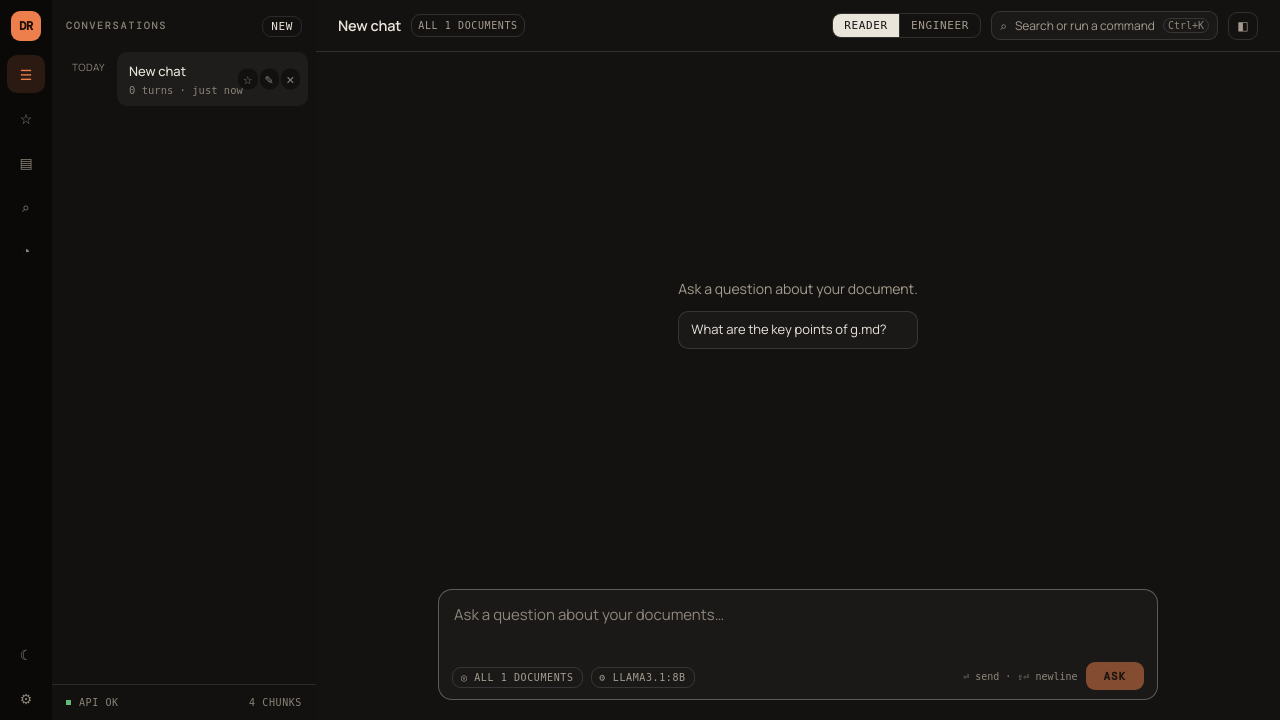
Scenario: App › a trace-row click opens the Trace tab and forces engineer mode
This screenshot has width=1280, height=720.
Check: the text "api ok" is shown, box x1=79 y1=695 x2=119 y2=710
Check: the radio button labelled "Reader" is checked, box x1=833 y1=14 x2=899 y2=37
Step 1. Click the button with test id "rail-traces" → (26, 250), box x1=7 y1=231 x2=45 y2=269
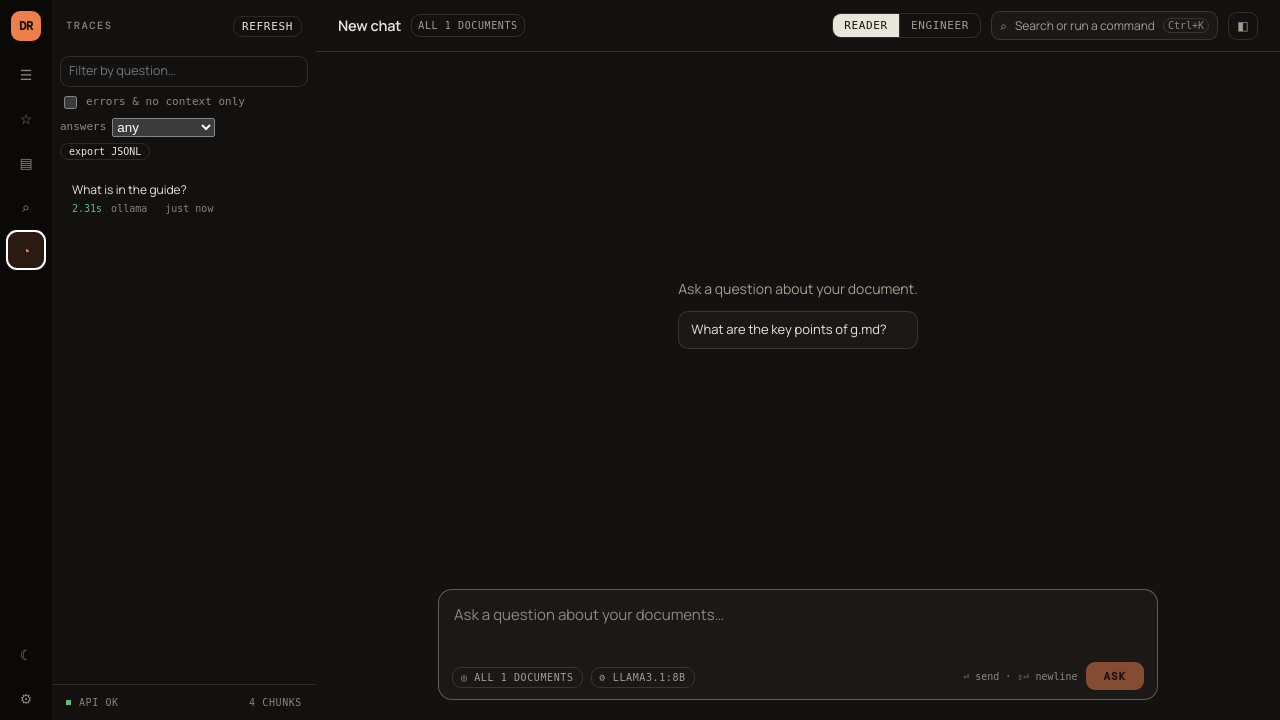
Step 2. Click the button with test id "traces-panel-row" → (184, 197), box x1=60 y1=171 x2=308 y2=224
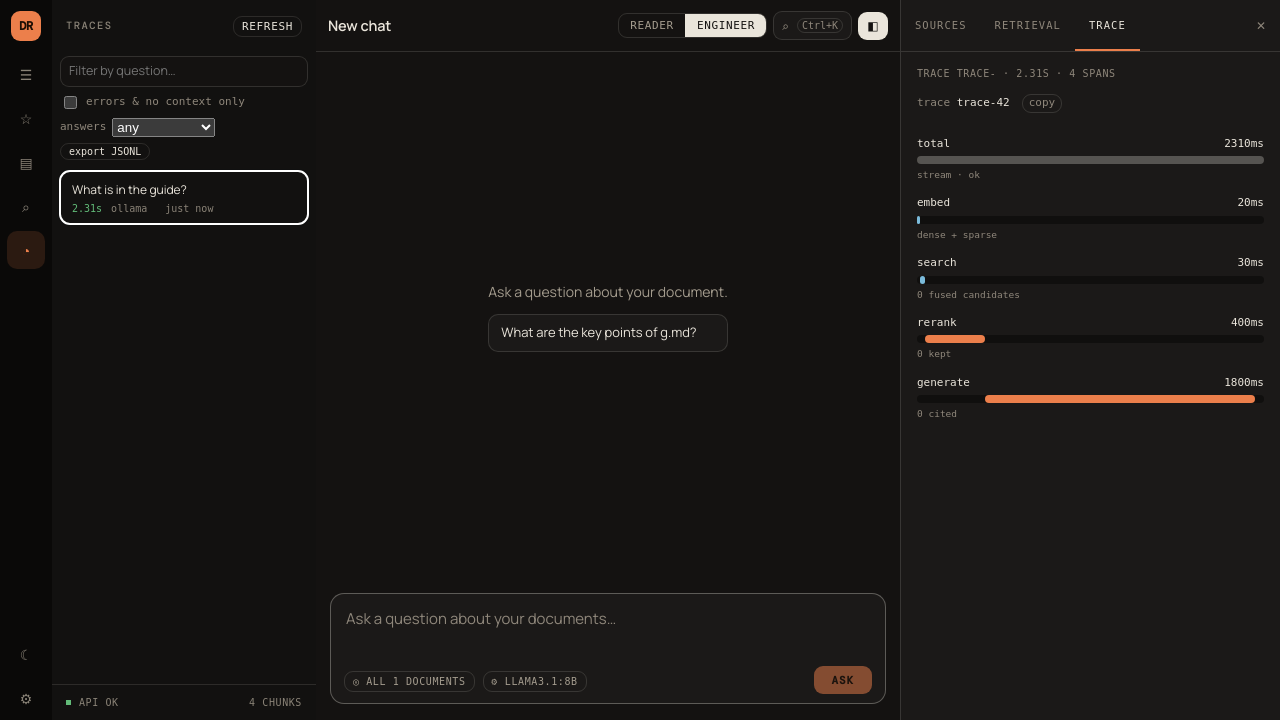
Check: the element with test id "inspector" is shown, box x1=900 y1=0 x2=1279 y2=719
Check: the radio button labelled "Engineer" is checked, box x1=685 y1=14 x2=766 y2=37
Check: the element with test id "trace-tab" is shown, box x1=901 y1=52 x2=1279 y2=439
